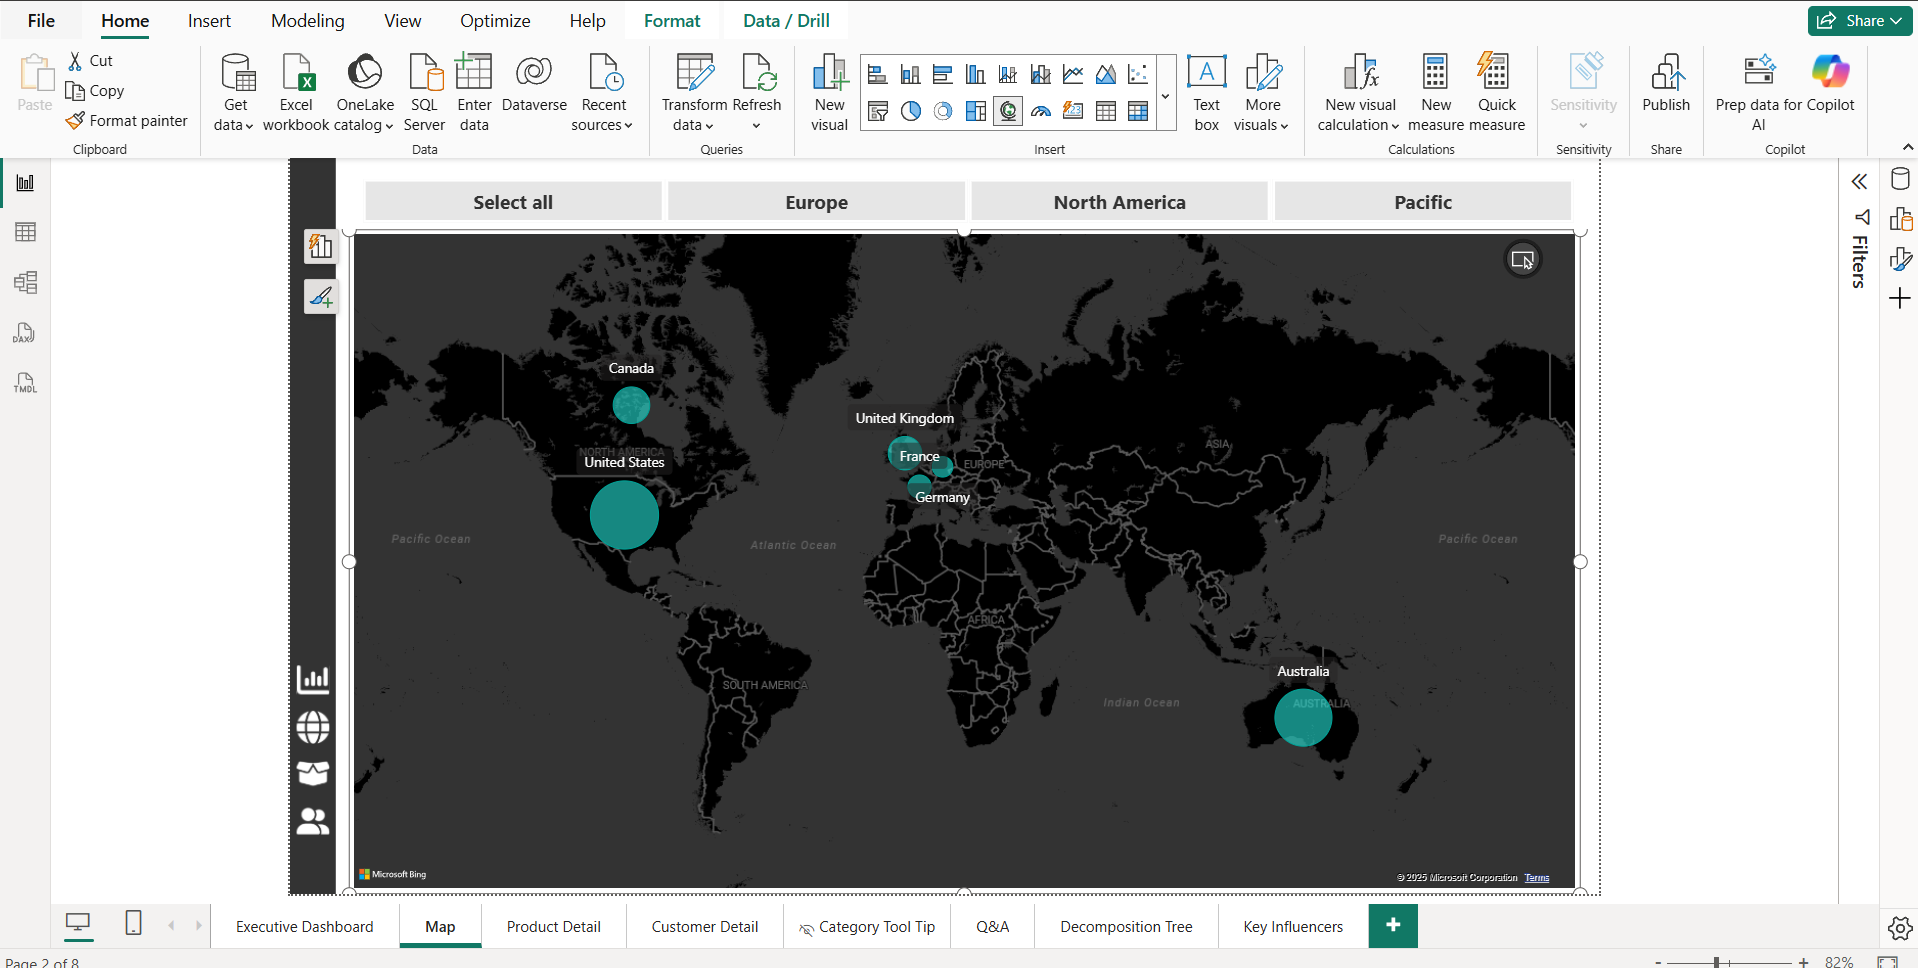

The page's visual inventory and layout, read from the dashboard file:
{"tool":"powerbi","page":{"name":"Map","canvas":[1280,720],"ordinal":1},"visuals":[{"type":"shape","box":[0,0,45,720],"z":0},{"type":"actionButton","box":[2.7,490.2,45.2,40.3],"z":0,"group":"g1"},{"type":"map","fields":{"Category":["Territory Lookup.Country"],"Size":["Measure Table.Total Orders"]},"box":[57.5,69.7,1204.1,650.3],"z":1000},{"type":"actionButton","box":[2.7,582.3,45.2,40.3],"z":1000,"group":"g1"},{"type":"slicer","fields":{"Values":["Territory Lookup.Continent"]},"box":[45.2,13.4,1234.6,56.2],"z":2000},{"type":"actionButton","box":[2.7,628.3,45.2,40.3],"z":2000,"group":"g1"},{"type":"actionButton","box":[2.7,536.2,45.2,40.3],"z":3000,"group":"g1"},{"type":"group","id":"g1","title":"Navigation Buttons","box":[2.7,490.2,45.2,178.5],"z":3000}]}

Visuals, with their boxes on the page's 1280x720 design canvas (x1, y1, x2, y2). These are canvas units, not pixel positions in the 1918x968 screenshot, which may show the page scaled, cropped or inside an application window:
shape: 0 0 45 720
actionButton: 3 490 48 530
map - Territory Lookup.Country x Measure Table.Total Orders: 58 70 1262 720
actionButton: 3 582 48 623
slicer - Territory Lookup.Continent: 45 13 1280 70
actionButton: 3 628 48 669
actionButton: 3 536 48 576
"Navigation Buttons" group: 3 490 48 669
